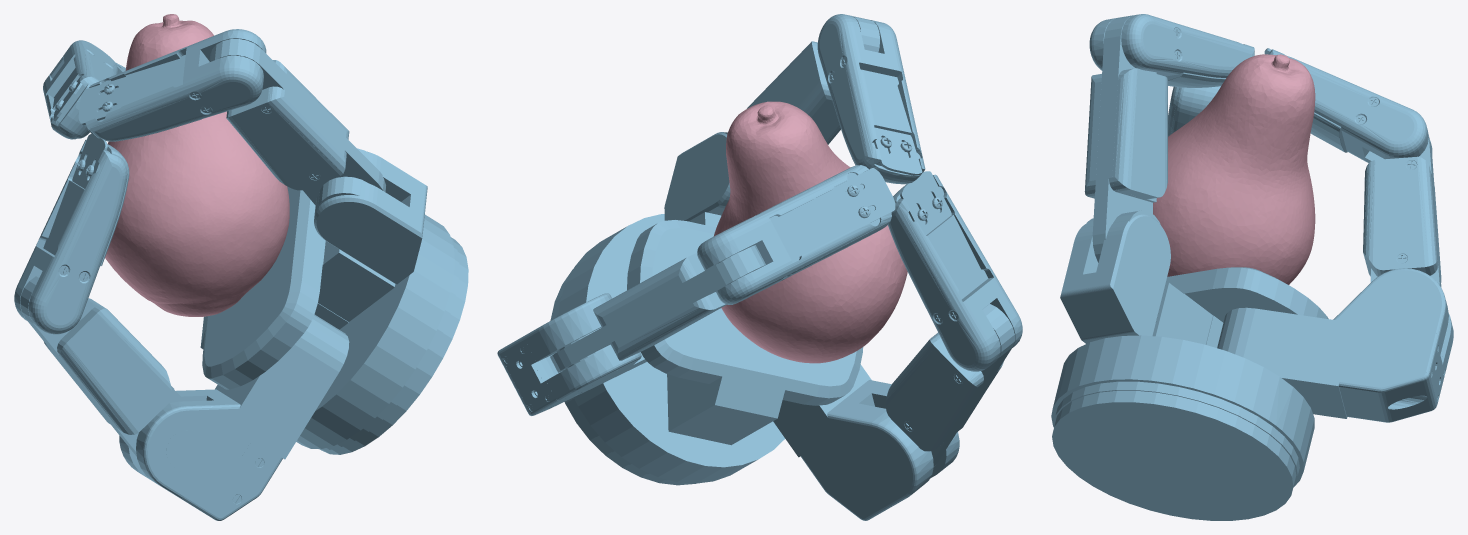
3 views of the same model, side by side, from view 1: azimuth 30°, elevation 25°; view 2: azimuth 150°, elevation 25°; view 3: azimuth 270°, elevation 25° (orthographic). The views are drawn at different scales.
Parts seen in each view (by area): view 1: world; view 2: world; view 3: world.
Boxes of the visible parts, bbox=[...] form: world: bbox=[14, 14, 468, 520]; world: bbox=[497, 14, 1022, 520]; world: bbox=[1051, 14, 1453, 520].
Bounding box in the file's own units: 0.1676 × 0.1789 × 0.1382.
